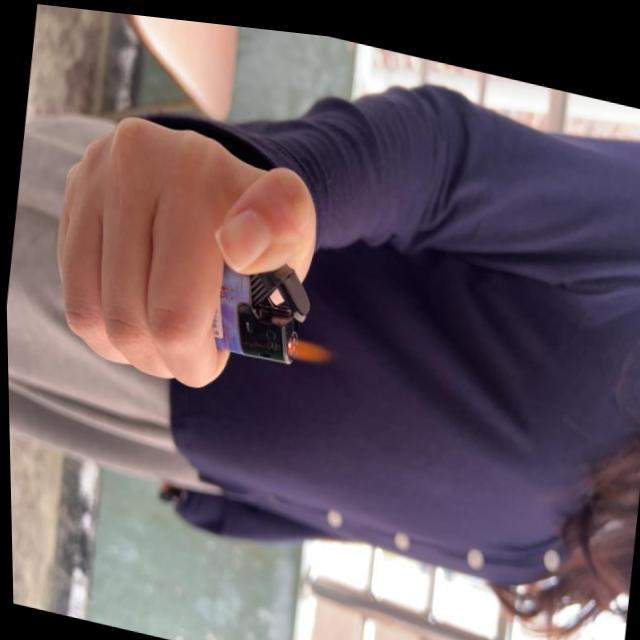Fire: (285, 326, 335, 360)
